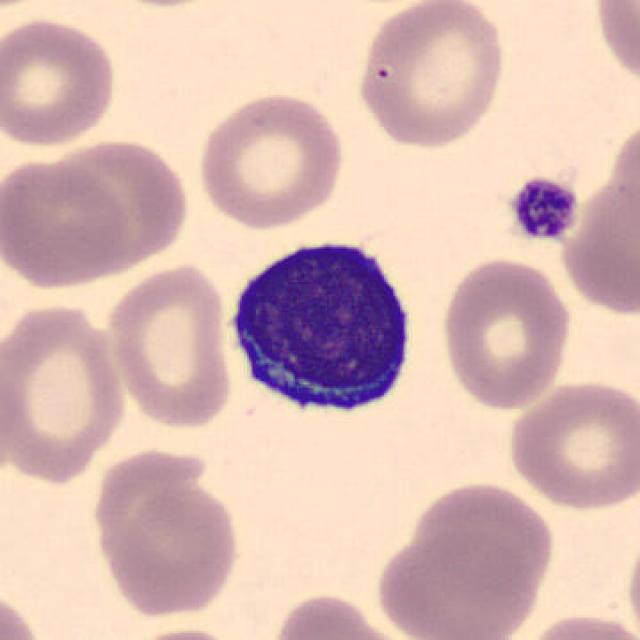Lymphocyte: (215, 224, 425, 430)
Platelets: (501, 175, 583, 245)
RBC: (0, 296, 132, 487), (352, 0, 512, 152), (101, 259, 236, 432), (39, 134, 196, 279), (192, 88, 348, 231), (436, 254, 576, 412), (98, 478, 244, 620), (370, 523, 544, 640), (402, 478, 558, 603), (0, 153, 133, 290), (505, 376, 638, 513), (0, 14, 121, 150), (556, 179, 640, 315), (265, 589, 414, 640), (588, 0, 639, 93), (517, 610, 640, 640), (0, 583, 48, 640), (110, 624, 252, 640), (622, 518, 640, 640)
